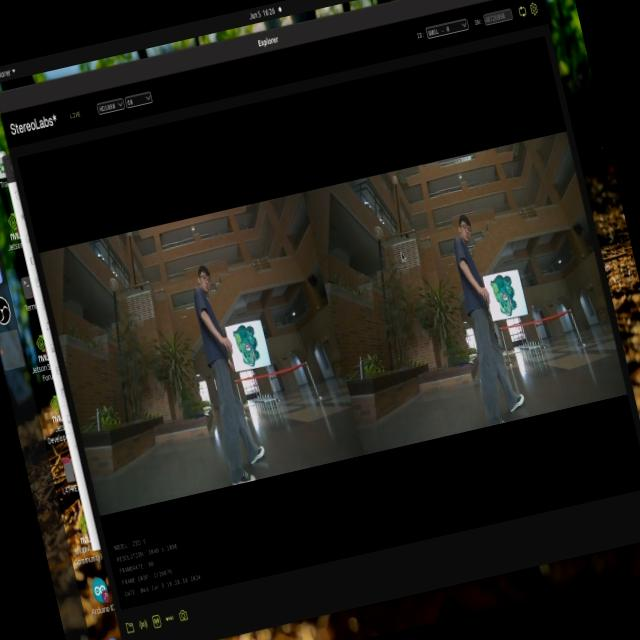green: (225, 324, 263, 369), (488, 275, 525, 319)
